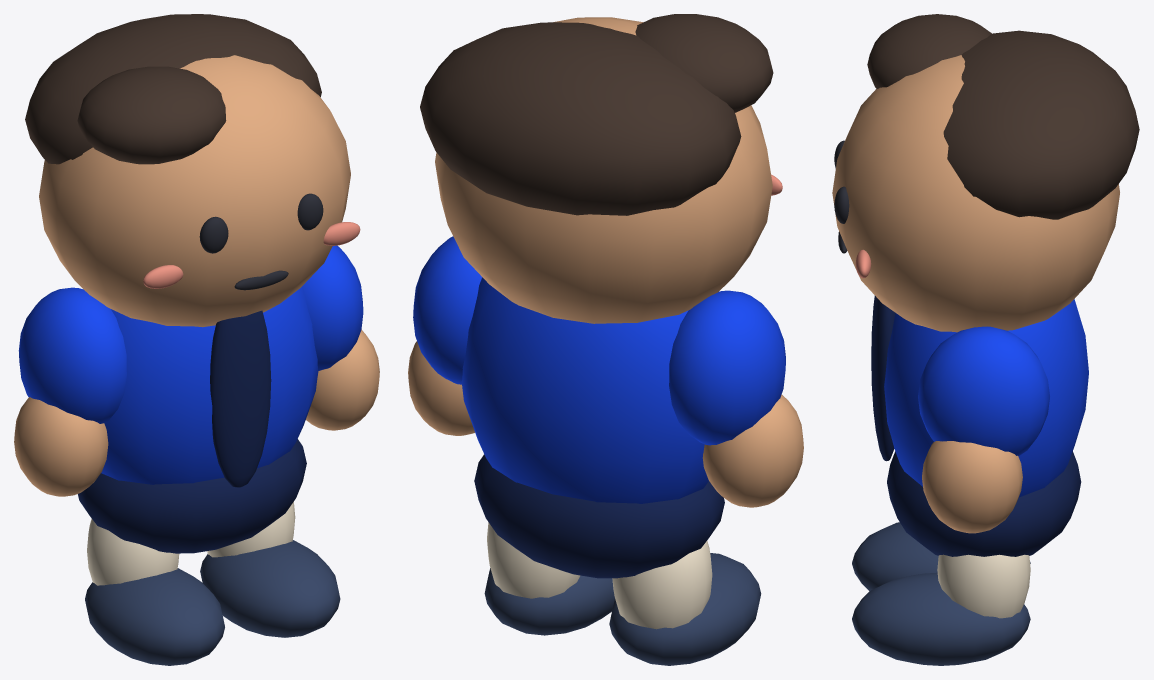
Rendered from player.glb.
3 views of the same model, side by side, from view 1: azimuth 30°, elevation 25°; view 2: azimuth 150°, elevation 25°; view 3: azimuth 270°, elevation 25° (orthographic). The views are drawn at different scales.
Visible parts, largest first — view 1: Head, Jersey, Hair cap, Shorts, Hair curl, Left sleeve, Left boot, Right boot, Shirt stripe, Left mitten, Right sleeve, Right mitten (+7 smaller); view 2: Hair cap, Jersey, Head, Shorts, Left sleeve, Hair curl, Left boot, Left mitten, Right sleeve, Left sock, Right boot, Right mitten (+1 smaller); view 3: Head, Hair cap, Jersey, Right sleeve, Right boot, Shorts, Right mitten, Hair curl, Right sock, Left boot, Shirt stripe.
Boxes of the visible parts, bbox=[...] form: Head: bbox=[39, 55, 350, 327]; Jersey: bbox=[101, 286, 318, 484]; Hair cap: bbox=[25, 14, 321, 164]; Shorts: bbox=[78, 439, 306, 553]; Hair curl: bbox=[77, 66, 226, 164]; Left sleeve: bbox=[18, 287, 126, 423]; Left boot: bbox=[85, 568, 224, 665]; Right boot: bbox=[200, 540, 340, 637]; Shirt stripe: bbox=[210, 310, 271, 487]; Left mitten: bbox=[14, 397, 108, 496]; Right sleeve: bbox=[303, 245, 363, 370]; Right mitten: bbox=[306, 329, 379, 430]; Hair cap: bbox=[420, 22, 741, 215]; Jersey: bbox=[461, 277, 708, 503]; Head: bbox=[435, 17, 772, 323]; Shorts: bbox=[474, 454, 724, 578]; Left sleeve: bbox=[669, 290, 785, 445]; Hair curl: bbox=[635, 14, 773, 112]; Left boot: bbox=[609, 553, 761, 665]; Left mitten: bbox=[702, 394, 803, 507]; Right sleeve: bbox=[413, 236, 482, 384]; Left sock: bbox=[612, 541, 712, 629]; Right boot: bbox=[484, 568, 614, 635]; Right mitten: bbox=[408, 341, 474, 435]; Head: bbox=[832, 55, 1119, 332]; Hair cap: bbox=[943, 30, 1139, 219]; Jersey: bbox=[884, 299, 1088, 497]; Right sleeve: bbox=[918, 326, 1049, 456]; Right boot: bbox=[852, 572, 1030, 665]; Shorts: bbox=[887, 451, 1081, 556]; Right mitten: bbox=[922, 441, 1022, 533]; Hair curl: bbox=[867, 14, 992, 88]; Right sock: bbox=[937, 554, 1030, 618]; Left boot: bbox=[852, 522, 1030, 590]; Shirt stripe: bbox=[871, 295, 895, 461].
Size of the model in its own units: 0.104 by 0.163 by 0.079.
